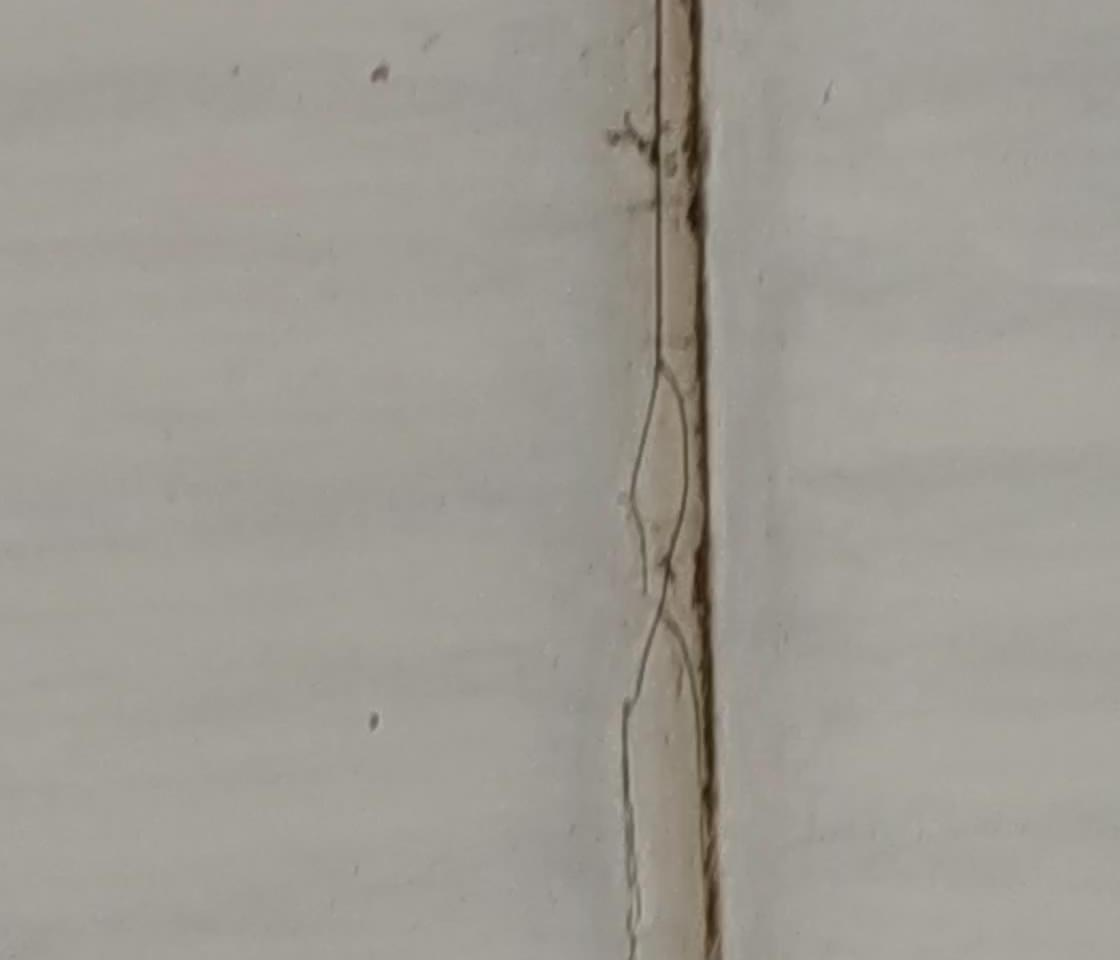scratch: (362, 708, 387, 737)
